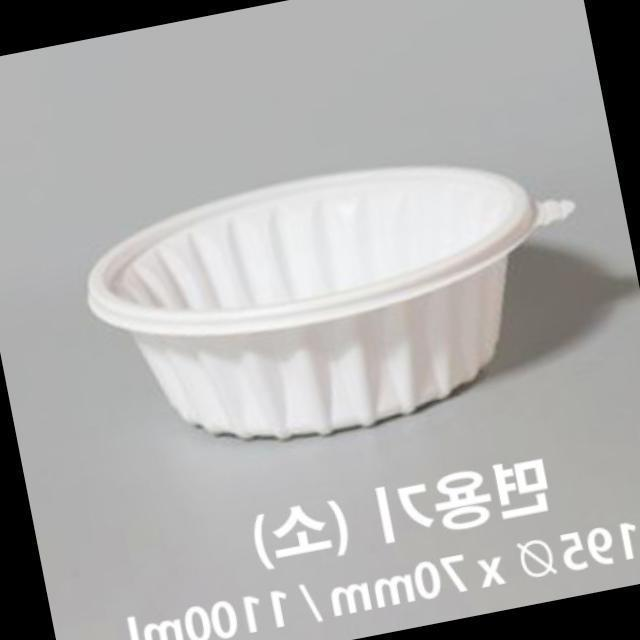disposable: (70, 167, 622, 451)
